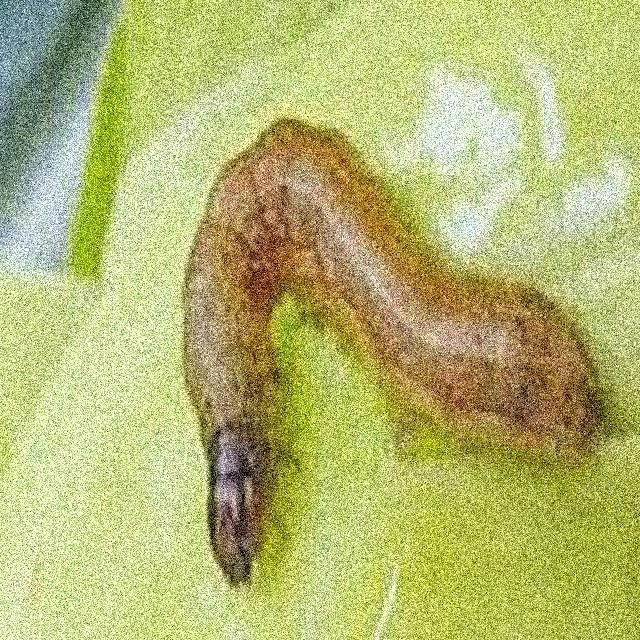Plaga: (178, 109, 605, 583)
